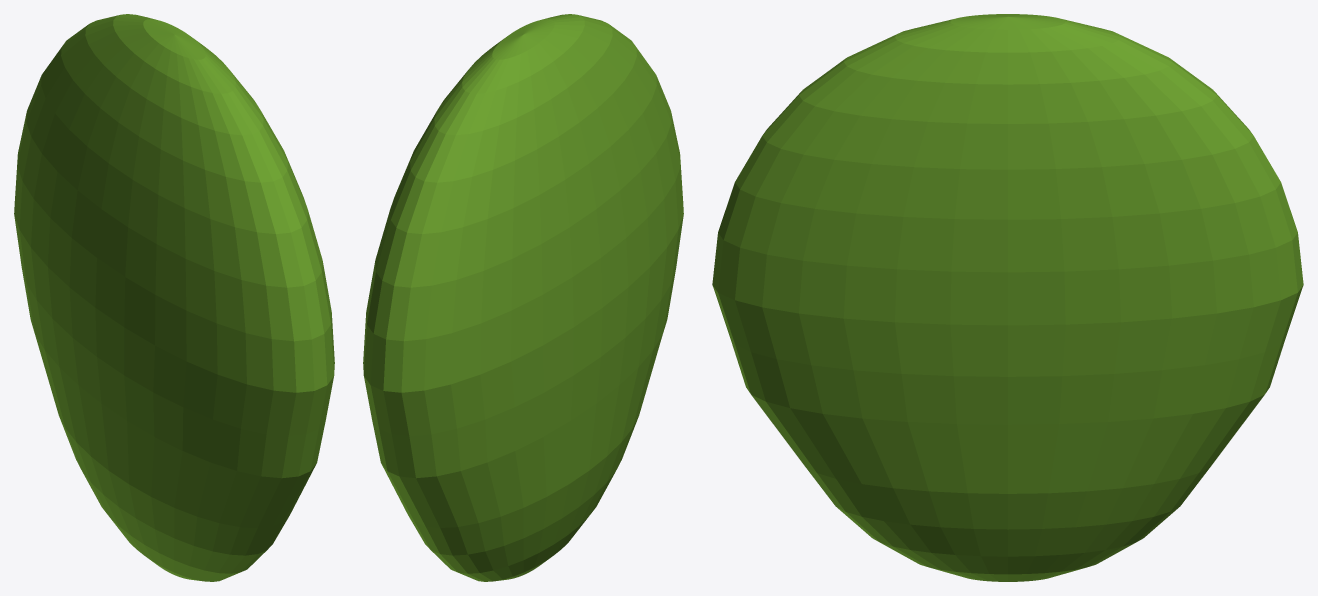
File: cactusthin.fbx
The picture shows the model from 3 angles, left to right: view 1: azimuth 30°, elevation 25°; view 2: azimuth 150°, elevation 25°; view 3: azimuth 270°, elevation 25°; orthographic projection. The views are drawn at different scales.
Parts seen in each view (by area): view 1: Sphere; view 2: Sphere; view 3: Sphere.
Boxes of the visible parts, x1=… form: Sphere: x1=14, y1=14, x2=334, y2=581; Sphere: x1=363, y1=14, x2=683, y2=581; Sphere: x1=712, y1=14, x2=1303, y2=581.
Bounding box in the file's own units: 65.18 × 210 × 200.
